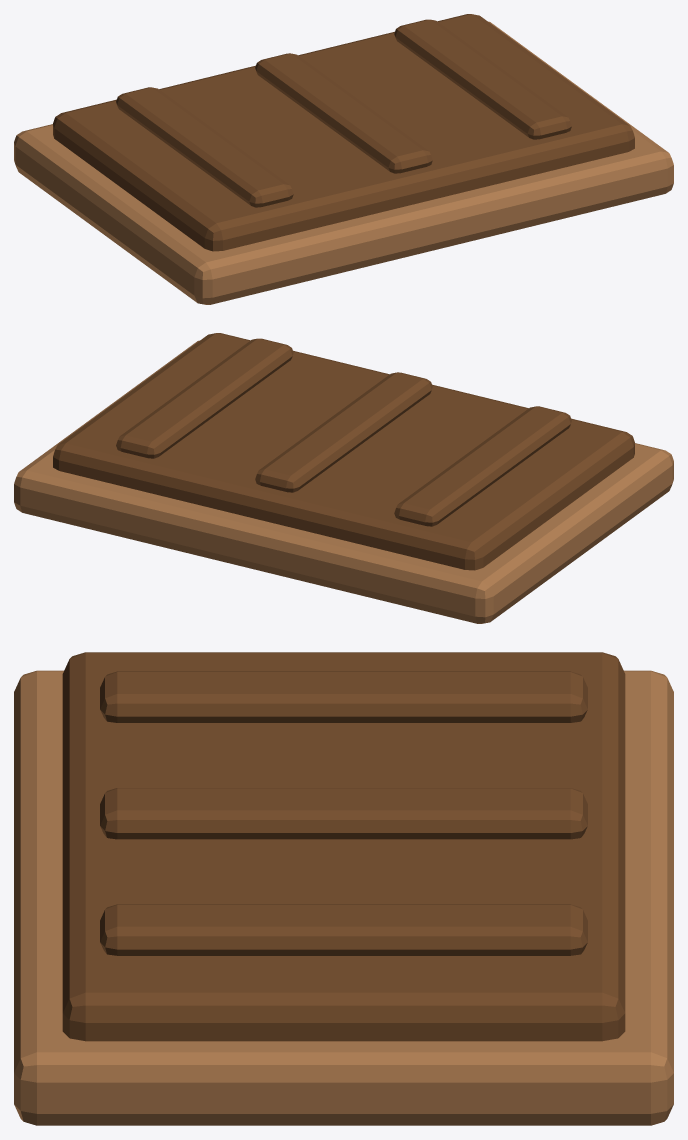
Rendered from plot-empty.glb.
3 views of the same model, one above another, from view 1: azimuth 30°, elevation 25°; view 2: azimuth 150°, elevation 25°; view 3: azimuth 270°, elevation 25° (orthographic). The views are drawn at different scales.
Visible parts, largest first — view 1: plot_soil, plot_border, plot_ridge.002, plot_ridge.001, plot_ridge; view 2: plot_soil, plot_border, plot_ridge.002, plot_ridge.001, plot_ridge; view 3: plot_soil, plot_border, plot_ridge.001, plot_ridge, plot_ridge.002.
Boxes of the visible parts, x1=… form: plot_soil: x1=53, y1=14, x2=634, y2=251; plot_border: x1=14, y1=21, x2=673, y2=304; plot_ridge.002: x1=394, y1=19, x2=571, y2=139; plot_ridge.001: x1=255, y1=53, x2=432, y2=173; plot_ridge: x1=116, y1=87, x2=293, y2=207; plot_soil: x1=53, y1=333, x2=634, y2=570; plot_border: x1=14, y1=340, x2=673, y2=623; plot_ridge.002: x1=116, y1=338, x2=293, y2=458; plot_ridge.001: x1=255, y1=372, x2=432, y2=492; plot_ridge: x1=394, y1=406, x2=571, y2=526; plot_soil: x1=62, y1=652, x2=625, y2=1041; plot_border: x1=14, y1=670, x2=673, y2=1125; plot_ridge.001: x1=100, y1=788, x2=587, y2=839; plot_ridge: x1=100, y1=671, x2=587, y2=722; plot_ridge.002: x1=100, y1=904, x2=587, y2=955.
Size of the model in its own units: 1.65 by 0.26 by 1.15.
